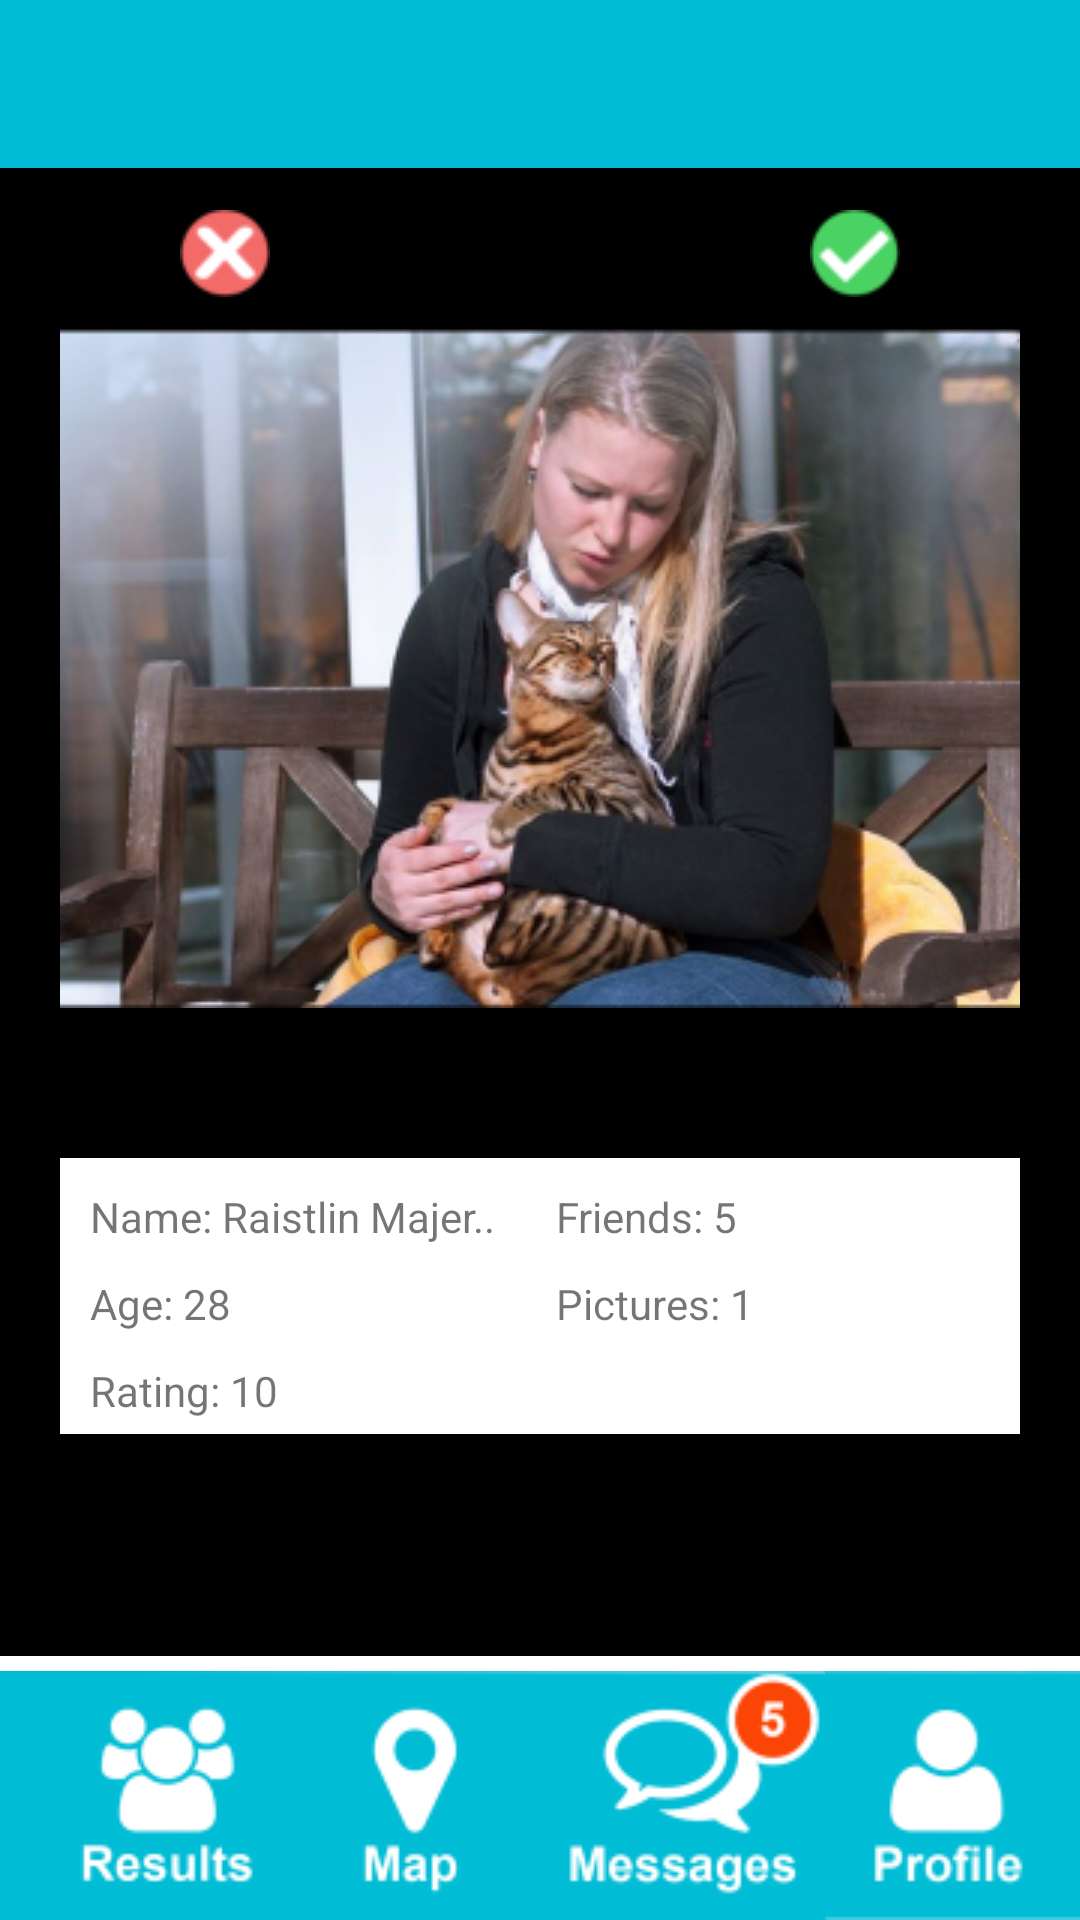

Point at icon controls on the screen. Image size 1080x1920, points as (x,y).
nobutton: (225,253)
yesbutton: (855,253)
